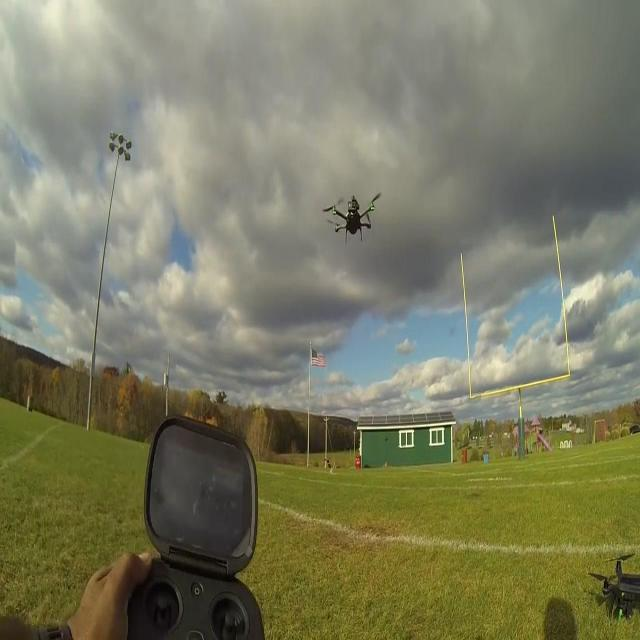UAV: (588, 553, 640, 620), (322, 192, 382, 244)
